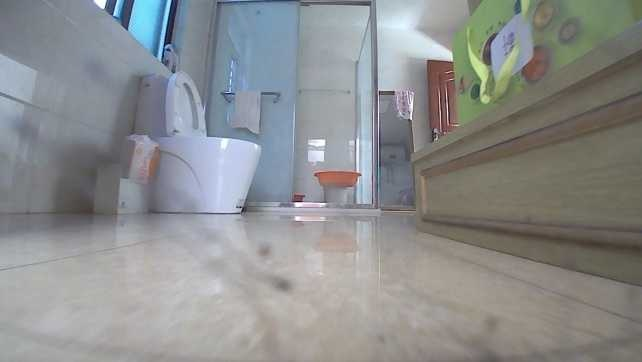door_sill: (267, 196, 376, 218)
toilet: (131, 69, 264, 218)
